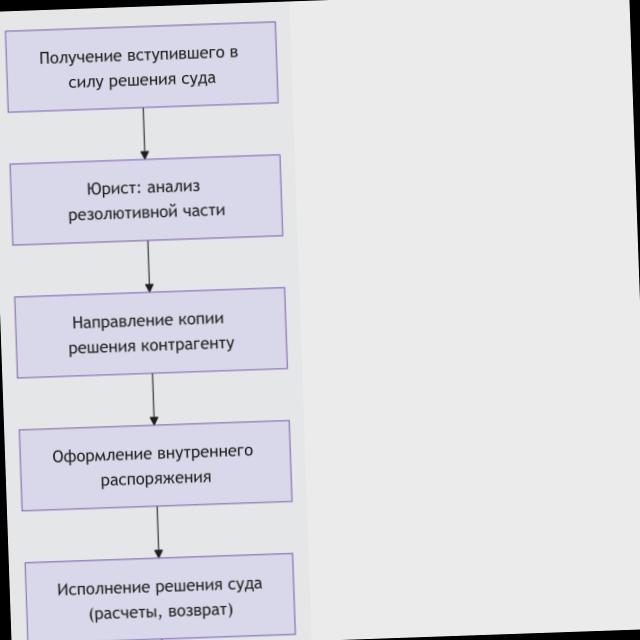arrow: (150, 374, 158, 424), (141, 109, 149, 159), (155, 506, 162, 557), (146, 241, 153, 291)
rectangle: (5, 22, 278, 112), (10, 155, 282, 245), (19, 421, 292, 510), (15, 288, 287, 377), (26, 554, 295, 639)
